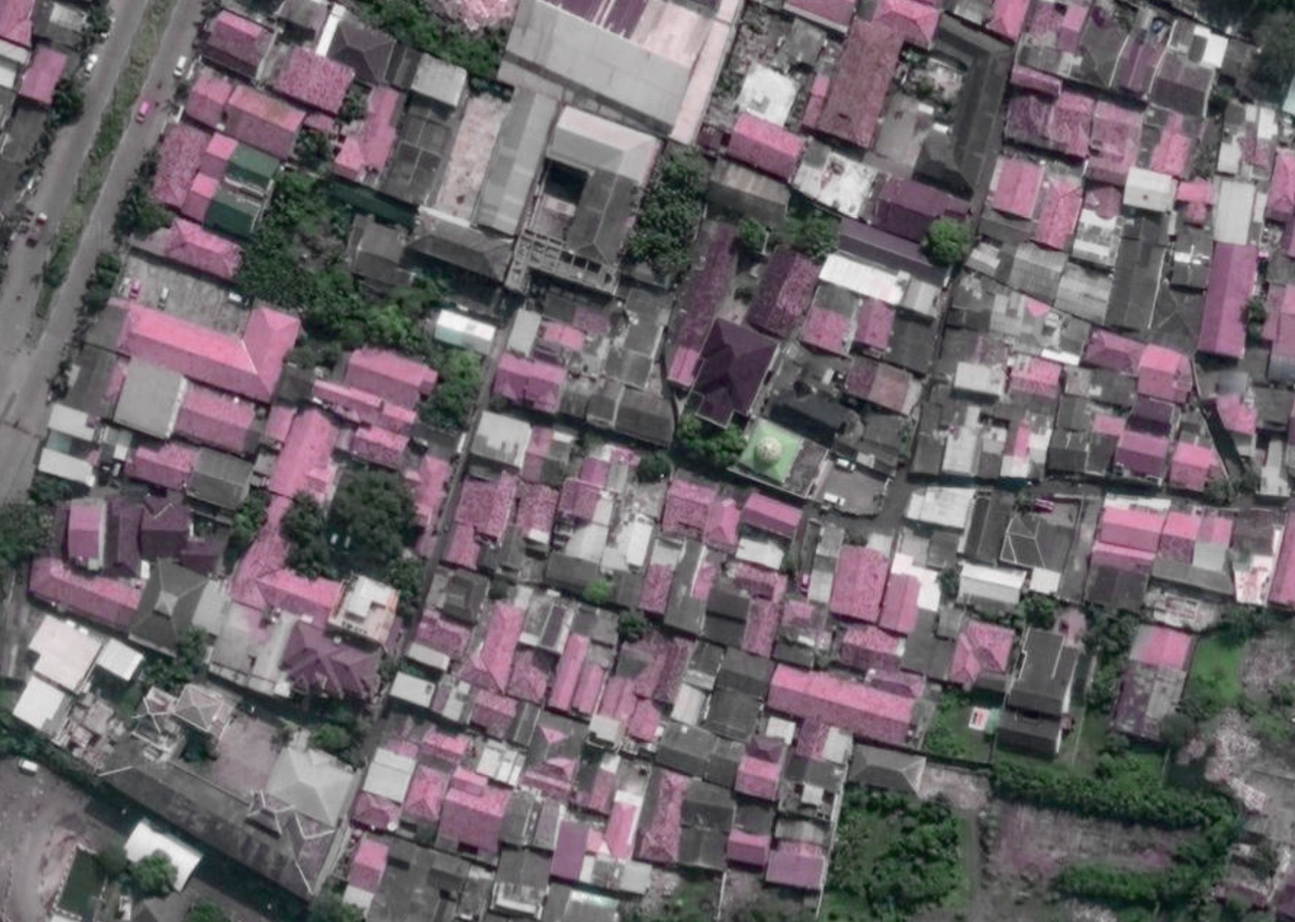building: (95, 729, 340, 907), (493, 0, 745, 147), (502, 103, 665, 318), (94, 259, 303, 409), (497, 0, 699, 135), (914, 16, 1017, 206), (646, 216, 753, 393), (347, 706, 474, 852), (221, 787, 349, 904), (468, 82, 564, 238), (763, 658, 922, 751), (910, 384, 1041, 493), (542, 354, 685, 452), (811, 12, 911, 151), (678, 315, 783, 437), (125, 556, 237, 669), (270, 618, 391, 721), (755, 336, 865, 446), (1077, 489, 1173, 615), (203, 593, 312, 703), (258, 729, 372, 834), (1205, 99, 1285, 247), (1108, 619, 1199, 747), (544, 103, 662, 193), (21, 552, 146, 635), (223, 493, 309, 613), (730, 413, 834, 506), (977, 282, 1086, 370), (265, 401, 352, 510), (131, 205, 247, 286), (367, 836, 475, 922), (866, 170, 973, 256), (1104, 206, 1174, 337), (441, 463, 522, 576), (330, 77, 409, 189), (1003, 625, 1090, 726), (742, 241, 827, 344), (831, 216, 952, 287), (406, 207, 517, 284), (602, 285, 681, 393), (786, 138, 884, 223), (431, 766, 517, 861), (1196, 239, 1262, 362), (1043, 392, 1129, 486), (338, 337, 440, 416), (170, 382, 268, 462), (17, 609, 106, 697), (214, 80, 309, 162), (770, 752, 849, 850), (305, 374, 418, 442), (831, 398, 920, 482), (249, 553, 346, 629), (611, 623, 694, 709), (109, 356, 191, 443), (320, 11, 408, 92), (701, 156, 796, 231), (117, 814, 205, 894), (268, 41, 357, 120), (1221, 505, 1288, 609), (658, 537, 725, 639), (120, 685, 202, 768), (721, 109, 808, 184), (326, 569, 406, 648), (1013, 0, 1092, 80), (195, 4, 276, 81), (144, 119, 211, 212), (672, 779, 738, 873), (466, 596, 529, 693), (389, 447, 458, 534), (945, 617, 1019, 698), (1067, 2, 1134, 91), (1109, 10, 1174, 101), (838, 352, 926, 419), (61, 341, 132, 424), (884, 539, 957, 619), (1081, 99, 1146, 188), (633, 767, 690, 866), (488, 349, 570, 417), (826, 542, 893, 625), (766, 375, 851, 440), (1147, 47, 1221, 121), (817, 249, 911, 307), (333, 831, 396, 917), (496, 785, 569, 859), (910, 127, 986, 198), (167, 674, 242, 745), (934, 325, 1011, 394), (1027, 168, 1089, 253), (182, 445, 257, 515), (488, 844, 555, 922), (343, 213, 410, 289), (122, 430, 199, 496), (736, 416, 807, 487), (609, 384, 683, 451), (632, 533, 689, 619), (1145, 280, 1210, 355), (957, 487, 1017, 568), (732, 60, 803, 128), (1139, 585, 1224, 640), (423, 562, 493, 628), (899, 609, 961, 683), (1050, 260, 1119, 326), (815, 462, 889, 523), (524, 709, 590, 776), (1002, 239, 1069, 305), (651, 716, 719, 781), (984, 152, 1047, 222), (846, 743, 927, 797), (655, 474, 719, 542), (489, 350, 557, 414), (698, 575, 756, 650), (396, 761, 451, 839), (1132, 342, 1199, 406), (468, 408, 536, 471), (998, 508, 1062, 574), (1095, 498, 1168, 555), (544, 630, 593, 714), (1149, 555, 1238, 601), (59, 691, 121, 757), (517, 590, 578, 657), (519, 422, 578, 491), (992, 707, 1066, 762), (8, 673, 71, 737), (200, 184, 265, 245), (428, 305, 500, 360), (1147, 109, 1202, 180), (763, 837, 830, 895), (407, 52, 472, 111), (14, 42, 70, 110), (903, 480, 976, 532), (702, 684, 764, 745), (174, 518, 234, 581), (943, 270, 1001, 335), (1210, 383, 1268, 448), (569, 749, 623, 818), (219, 141, 282, 200), (1069, 207, 1127, 271), (179, 66, 236, 131), (791, 715, 858, 770), (774, 17, 831, 81), (1043, 89, 1095, 159), (737, 490, 805, 543), (866, 0, 941, 48), (541, 291, 614, 340), (956, 561, 1027, 611), (1165, 438, 1225, 497), (1002, 89, 1060, 150), (773, 595, 835, 652), (795, 302, 858, 358), (1081, 326, 1146, 380), (346, 420, 412, 473), (360, 745, 418, 805), (502, 645, 558, 707), (510, 480, 561, 548), (411, 608, 474, 663), (837, 624, 906, 674), (1209, 177, 1259, 246), (568, 646, 614, 720), (876, 570, 926, 638), (105, 494, 146, 576), (64, 496, 108, 572), (267, 0, 335, 49), (1112, 427, 1171, 483), (529, 316, 590, 370), (30, 0, 92, 53), (540, 549, 603, 601), (463, 686, 521, 741), (547, 817, 593, 885), (139, 501, 192, 560), (715, 647, 775, 699), (1121, 165, 1180, 217), (1268, 498, 1295, 611), (34, 445, 101, 490), (1004, 351, 1064, 400), (974, 205, 1035, 253), (589, 853, 654, 898), (472, 737, 528, 789), (850, 297, 899, 356), (1155, 505, 1204, 564), (610, 509, 657, 570), (92, 635, 147, 687), (519, 753, 576, 803), (1214, 35, 1262, 94), (732, 752, 786, 804), (1267, 285, 1295, 385), (739, 596, 783, 659), (722, 558, 783, 603), (348, 789, 403, 838), (595, 672, 644, 727), (571, 601, 626, 650), (600, 798, 642, 862), (1166, 236, 1213, 293), (1182, 22, 1234, 73), (554, 475, 604, 527), (1083, 367, 1139, 412), (44, 401, 101, 445), (704, 576, 755, 624), (782, 0, 856, 33), (681, 638, 726, 692), (582, 376, 625, 432), (563, 517, 612, 566), (733, 531, 789, 573), (1248, 385, 1295, 435), (195, 130, 240, 182), (623, 696, 668, 748), (1127, 393, 1180, 437), (178, 170, 221, 224), (1172, 175, 1216, 227), (1007, 62, 1064, 102), (702, 737, 745, 790), (702, 496, 742, 552), (492, 525, 533, 579), (723, 827, 773, 871), (769, 634, 821, 676), (503, 306, 544, 359), (387, 669, 438, 711), (668, 680, 711, 729), (1267, 148, 1295, 223), (984, 0, 1031, 44), (436, 676, 475, 725), (301, 823, 339, 873), (1195, 510, 1237, 555), (1259, 440, 1290, 497), (137, 684, 180, 725), (0, 0, 36, 48), (404, 640, 454, 674), (960, 370, 1006, 404), (575, 450, 614, 490), (1059, 0, 1089, 52), (925, 529, 960, 571), (1083, 184, 1122, 220), (610, 569, 644, 610), (1245, 104, 1280, 141), (1215, 134, 1245, 177), (761, 714, 799, 747), (1027, 566, 1063, 597), (949, 0, 992, 25), (1266, 250, 1295, 286), (0, 38, 32, 67), (0, 60, 17, 89), (1193, 559, 1223, 572)
tree: (990, 759, 1227, 835), (318, 455, 433, 567), (1157, 798, 1269, 908), (356, 294, 442, 367), (304, 697, 384, 772), (293, 266, 371, 341), (422, 346, 489, 431), (280, 492, 339, 587), (1057, 858, 1170, 907), (1076, 600, 1144, 666), (784, 204, 848, 267), (221, 484, 283, 548), (642, 181, 708, 240), (659, 141, 719, 203), (378, 551, 438, 613), (258, 260, 320, 319), (1243, 680, 1295, 749), (122, 852, 180, 907), (894, 858, 960, 906), (78, 247, 129, 309), (700, 423, 757, 477), (1080, 653, 1127, 718), (39, 741, 102, 789), (896, 817, 963, 862), (3, 502, 48, 565), (1253, 12, 1293, 81), (864, 844, 905, 911), (403, 6, 455, 58), (1179, 667, 1228, 721), (916, 718, 966, 770), (646, 233, 697, 282), (86, 110, 129, 165), (927, 218, 976, 266), (25, 467, 73, 516), (127, 194, 176, 242), (459, 34, 505, 85), (394, 275, 451, 316), (293, 124, 341, 172), (818, 843, 865, 890), (1242, 840, 1289, 885), (232, 252, 276, 300), (1221, 604, 1276, 642), (831, 813, 877, 858), (630, 447, 676, 492), (610, 604, 655, 648), (91, 834, 135, 879), (620, 220, 665, 263), (141, 660, 196, 695), (305, 890, 366, 921), (27, 255, 72, 297), (731, 212, 774, 255), (9, 722, 52, 765), (434, 24, 476, 68), (174, 626, 213, 670), (368, 1, 417, 35), (112, 683, 148, 728), (54, 73, 88, 120), (274, 168, 316, 206), (578, 573, 618, 612), (80, 5, 117, 47), (1159, 709, 1200, 746), (265, 194, 304, 232), (933, 683, 970, 722), (916, 794, 956, 830), (270, 714, 307, 752), (338, 85, 375, 122), (1205, 472, 1241, 509), (712, 67, 748, 104), (291, 341, 341, 367), (869, 792, 925, 815), (768, 208, 798, 249), (324, 203, 358, 239), (1183, 892, 1223, 922), (1128, 824, 1163, 858), (676, 411, 703, 455), (187, 897, 233, 922), (378, 651, 418, 679), (1091, 748, 1124, 780), (572, 431, 606, 462), (730, 271, 762, 303), (186, 732, 217, 765), (253, 228, 285, 258), (938, 567, 967, 598), (1032, 594, 1058, 628), (744, 8, 773, 38), (1238, 467, 1267, 496), (339, 320, 367, 349), (1210, 83, 1238, 111), (1225, 890, 1253, 918), (487, 575, 514, 604), (845, 784, 871, 810), (778, 549, 804, 574), (1248, 300, 1266, 334), (1103, 733, 1132, 753), (846, 525, 870, 549), (1193, 152, 1216, 177), (901, 422, 917, 457), (1, 691, 16, 728), (1120, 907, 1153, 921), (843, 878, 864, 899), (906, 49, 926, 70), (919, 77, 938, 98), (1245, 912, 1277, 922), (2, 732, 17, 753), (986, 608, 1000, 623), (1016, 492, 1029, 508)
